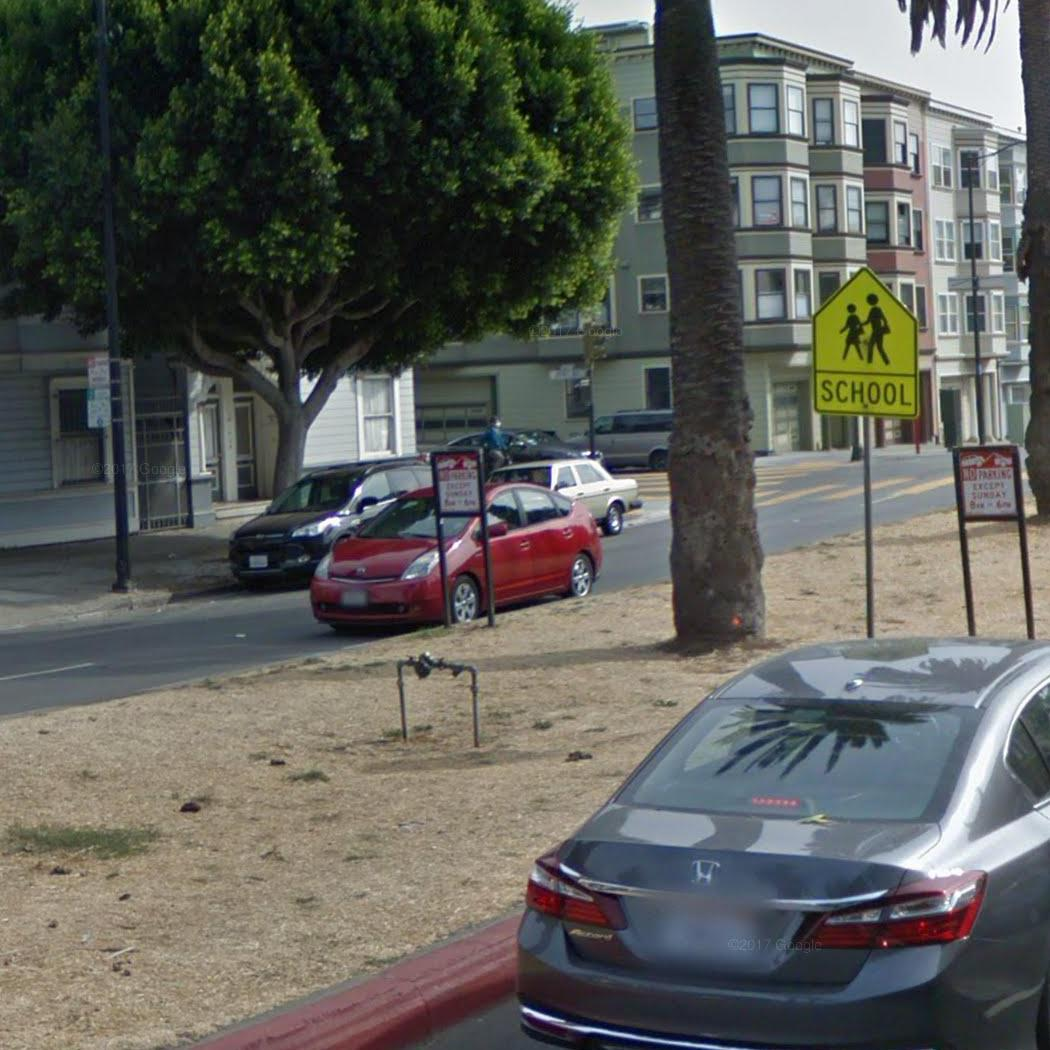2 Hour Parking: (86, 386, 113, 430)
No Parking: (85, 353, 112, 387)
